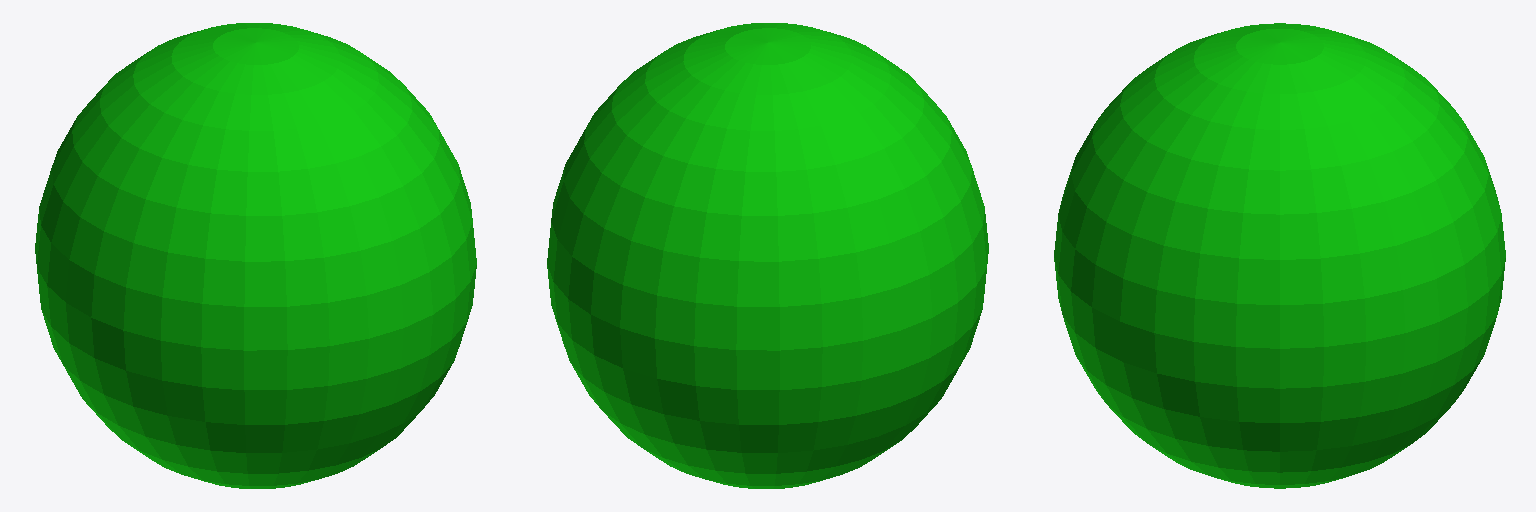
The model's file is moya_fan_g.obj.
3 views of the same model, side by side, from view 1: azimuth 30°, elevation 25°; view 2: azimuth 150°, elevation 25°; view 3: azimuth 270°, elevation 25° (orthographic).
Parts seen in each view (by area): view 1: Sphere_Sphere.000_Sphere_Sphere.004; view 2: Sphere_Sphere.000_Sphere_Sphere.004; view 3: Sphere_Sphere.000_Sphere_Sphere.004.
Boxes of the visible parts, x1=… form: Sphere_Sphere.000_Sphere_Sphere.004: x1=35, y1=23, x2=476, y2=488; Sphere_Sphere.000_Sphere_Sphere.004: x1=547, y1=23, x2=988, y2=488; Sphere_Sphere.000_Sphere_Sphere.004: x1=1054, y1=23, x2=1505, y2=488.
Size of the model in its own units: 0.4594 by 0.4922 by 0.4726.